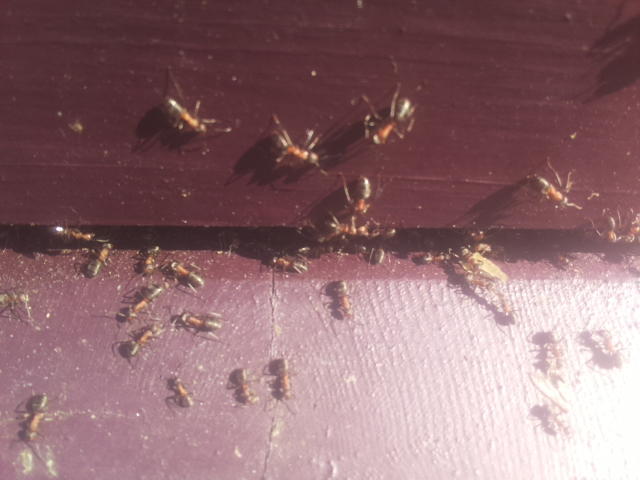ant: (359, 81, 427, 160), (154, 86, 214, 141), (264, 124, 326, 172), (520, 168, 573, 211), (163, 255, 209, 296), (15, 390, 55, 437), (342, 171, 377, 223), (169, 308, 227, 336), (592, 324, 626, 371), (121, 320, 159, 362), (525, 397, 561, 439), (269, 350, 295, 406), (163, 369, 196, 412), (231, 362, 258, 409), (131, 281, 167, 316), (331, 274, 355, 326), (85, 238, 112, 283), (44, 225, 96, 244), (597, 212, 624, 243)
